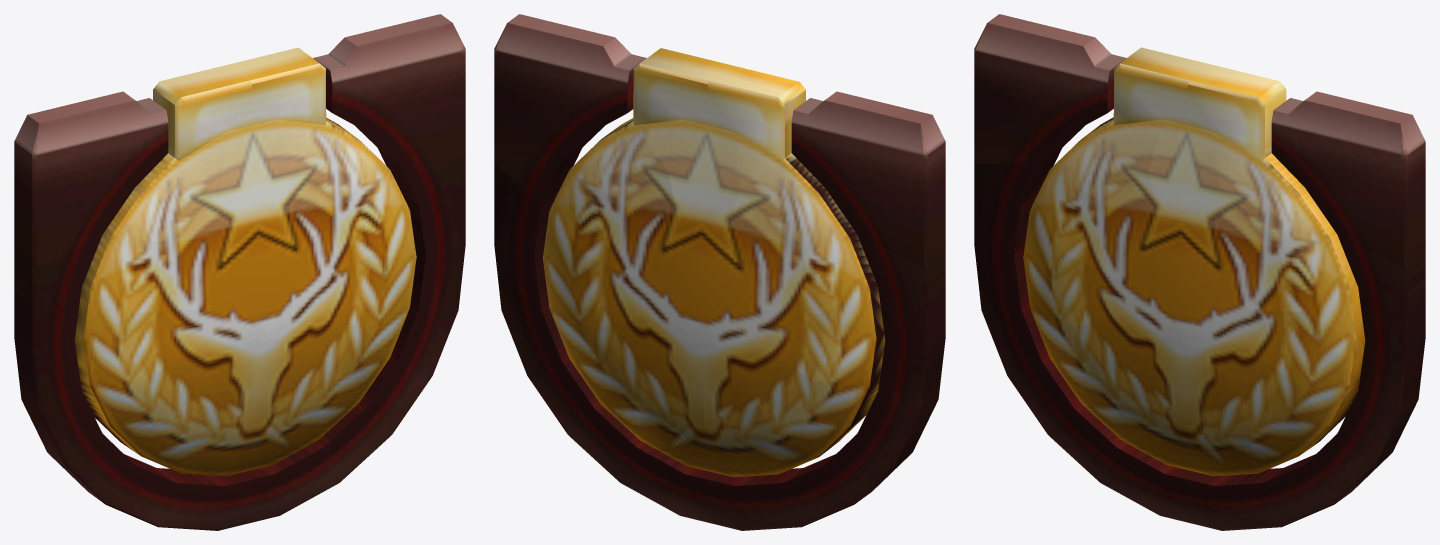
Rendered from static.ico.obj.
3 renders of one model, left to right at view 1: azimuth 30°, elevation 25°; view 2: azimuth 150°, elevation 25°; view 3: azimuth 330°, elevation 25°, orthographic.
Size of the model in its own units: 1.92 by 1.9 by 0.323.
Materials: 1 (1 with a texture image).
